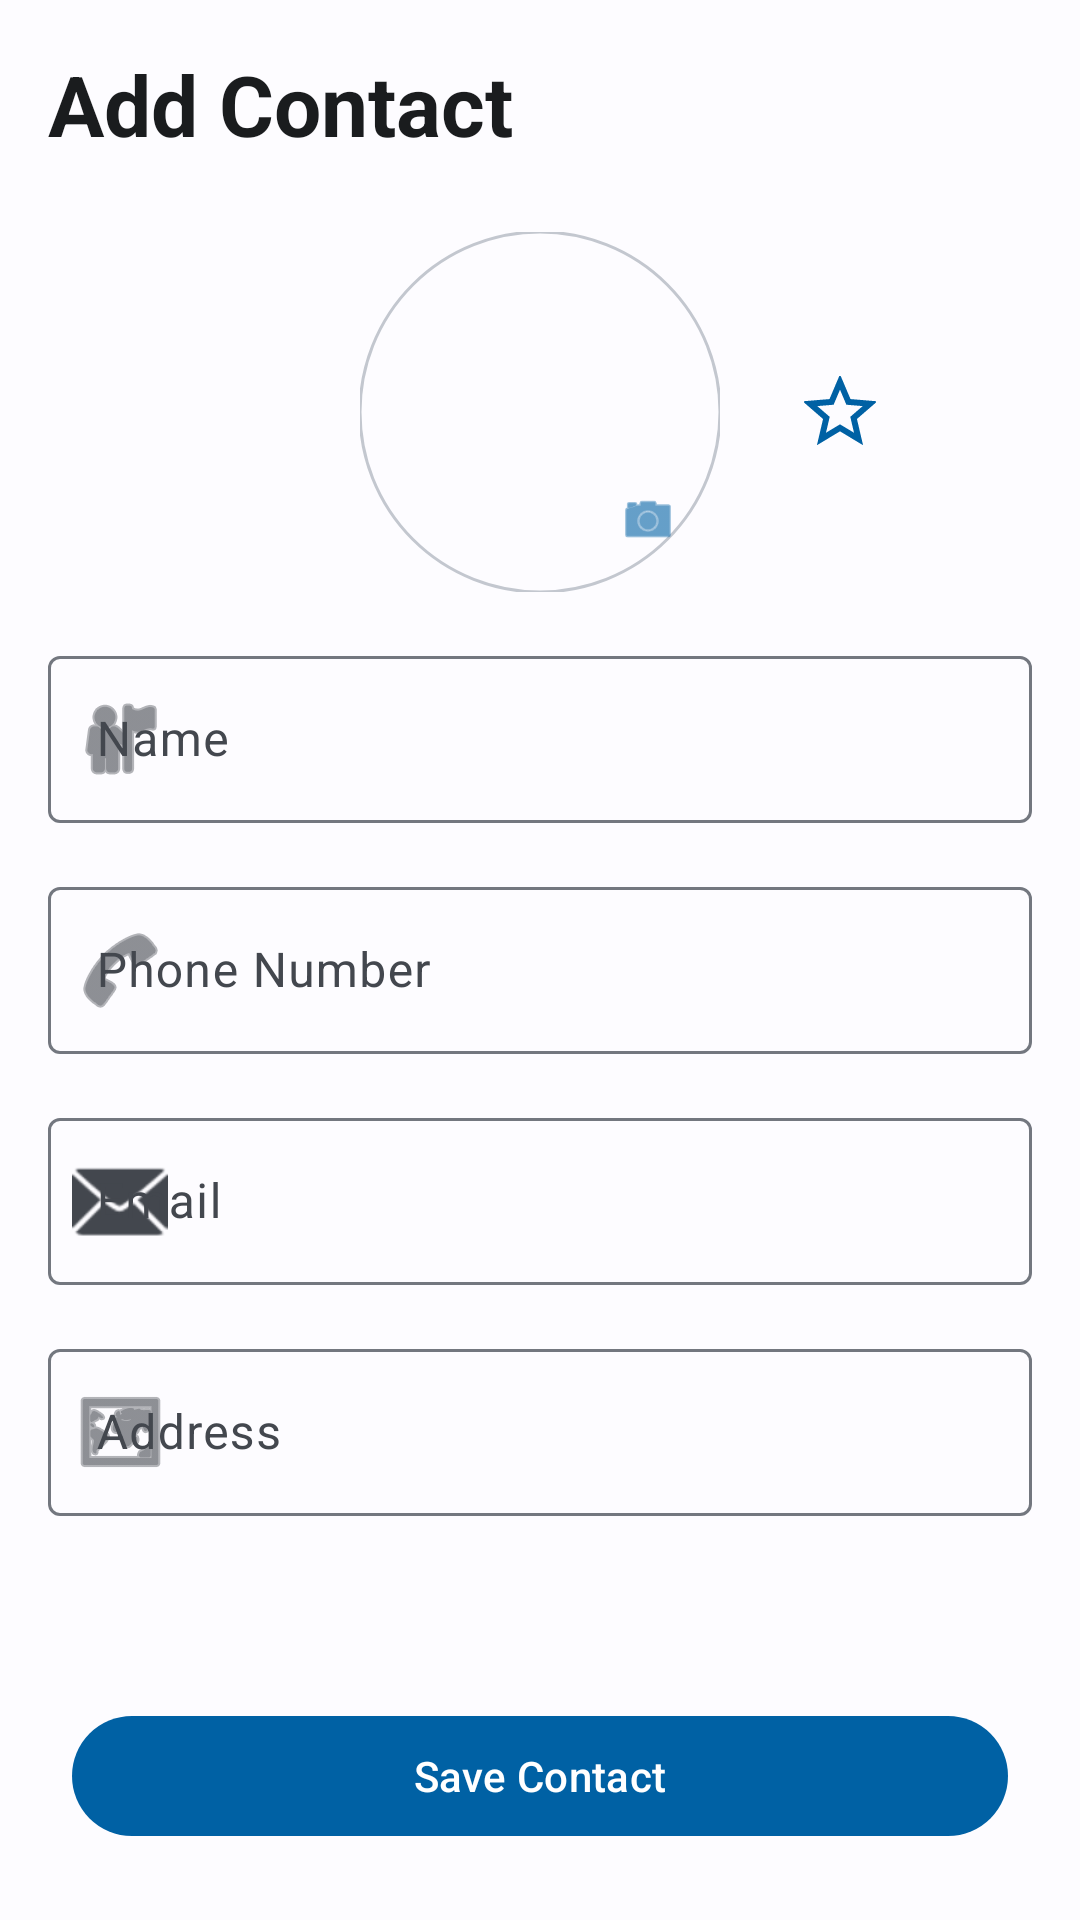

Named icons in this screenshot (1080 x 1920) and their bounding boxes, (x1, y1, x2, y2):
Toggle Favorite: (804, 376, 876, 445)
